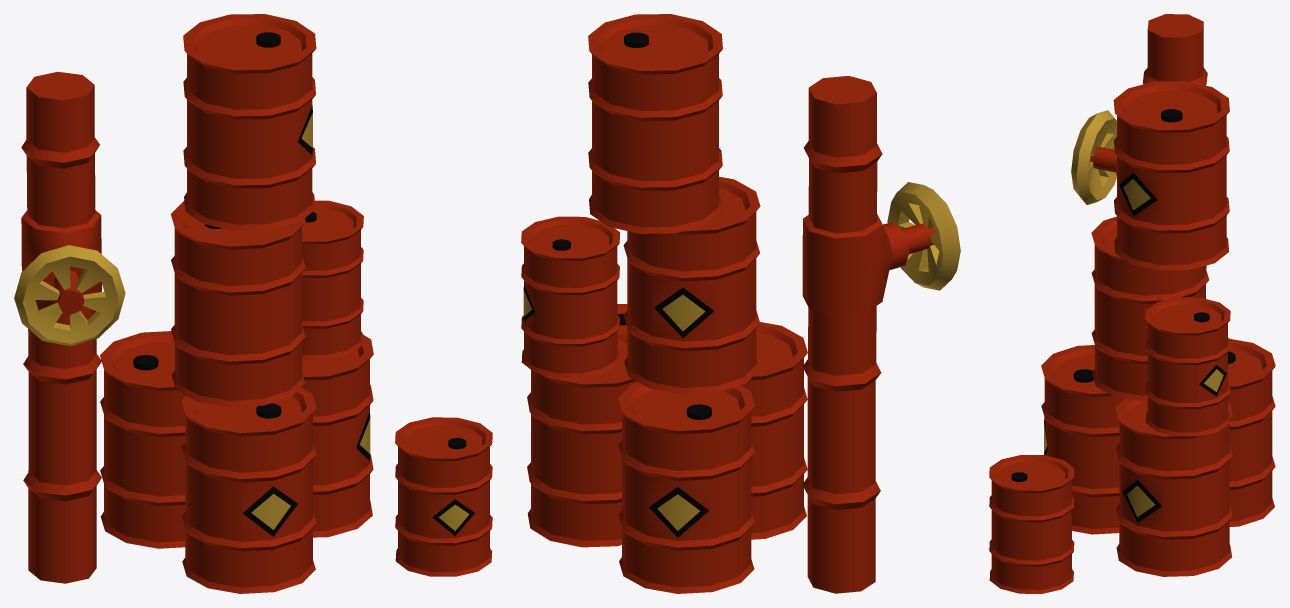
File: Fuel Factory Inside Solid.fbx
3 views of the same model, side by side, from view 1: azimuth 30°, elevation 25°; view 2: azimuth 150°, elevation 25°; view 3: azimuth 270°, elevation 25° (orthographic). The views are drawn at different scales.
Parts seen in each view (by area): view 1: Fuel Factory Inside; view 2: Fuel Factory Inside; view 3: Fuel Factory Inside.
Part boxes in pixels (x1,y1,x2,y2): Fuel Factory Inside: (14,14,492,593); Fuel Factory Inside: (521,14,960,593); Fuel Factory Inside: (989,14,1275,593).
Bounding box in the file's own units: 458 × 500 × 308.
